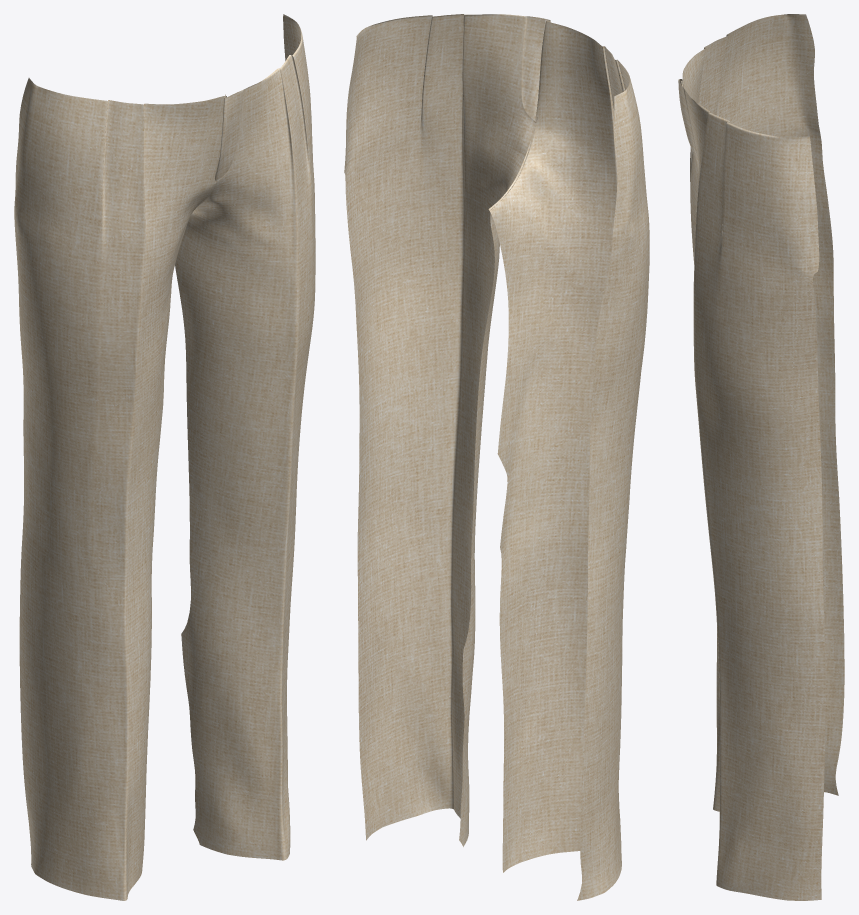
File: forward_double_pleat.glb
3 renders of one model, left to right at view 1: azimuth 30°, elevation 25°; view 2: azimuth 150°, elevation 25°; view 3: azimuth 270°, elevation 25°, orthographic. The views are drawn at different scales.
Parts seen in each view (by area): view 1: forward_double_pleat2; view 2: forward_double_pleat2; view 3: forward_double_pleat2.
Boxes of the visible parts, <box> form: forward_double_pleat2: <box>14,14,315,900</box>; forward_double_pleat2: <box>344,14,649,900</box>; forward_double_pleat2: <box>678,14,844,900</box>.
Bounding box in the file's own units: 0.0497 × 0.1341 × 0.0262.
1 material, 1 textured.
